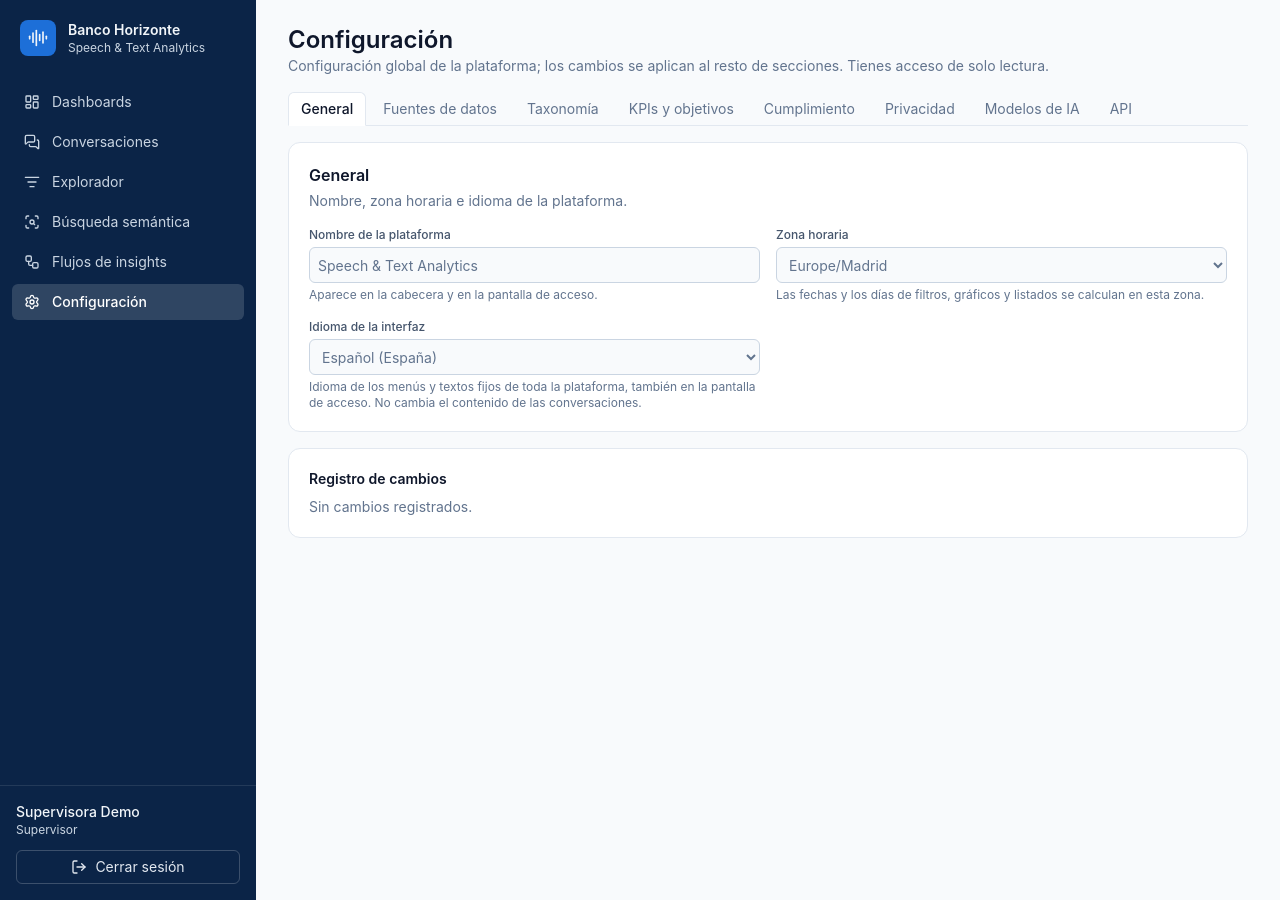
Test: Configuración: auditoría y solo lectura › una supervisora ve la configuración en solo lectura
The image size is (1280, 900).
Expected: the text "solo lectura" is shown, [843,57,1049,74]
Click the tab "General".
click(327, 109)  # box [288,92,366,126]
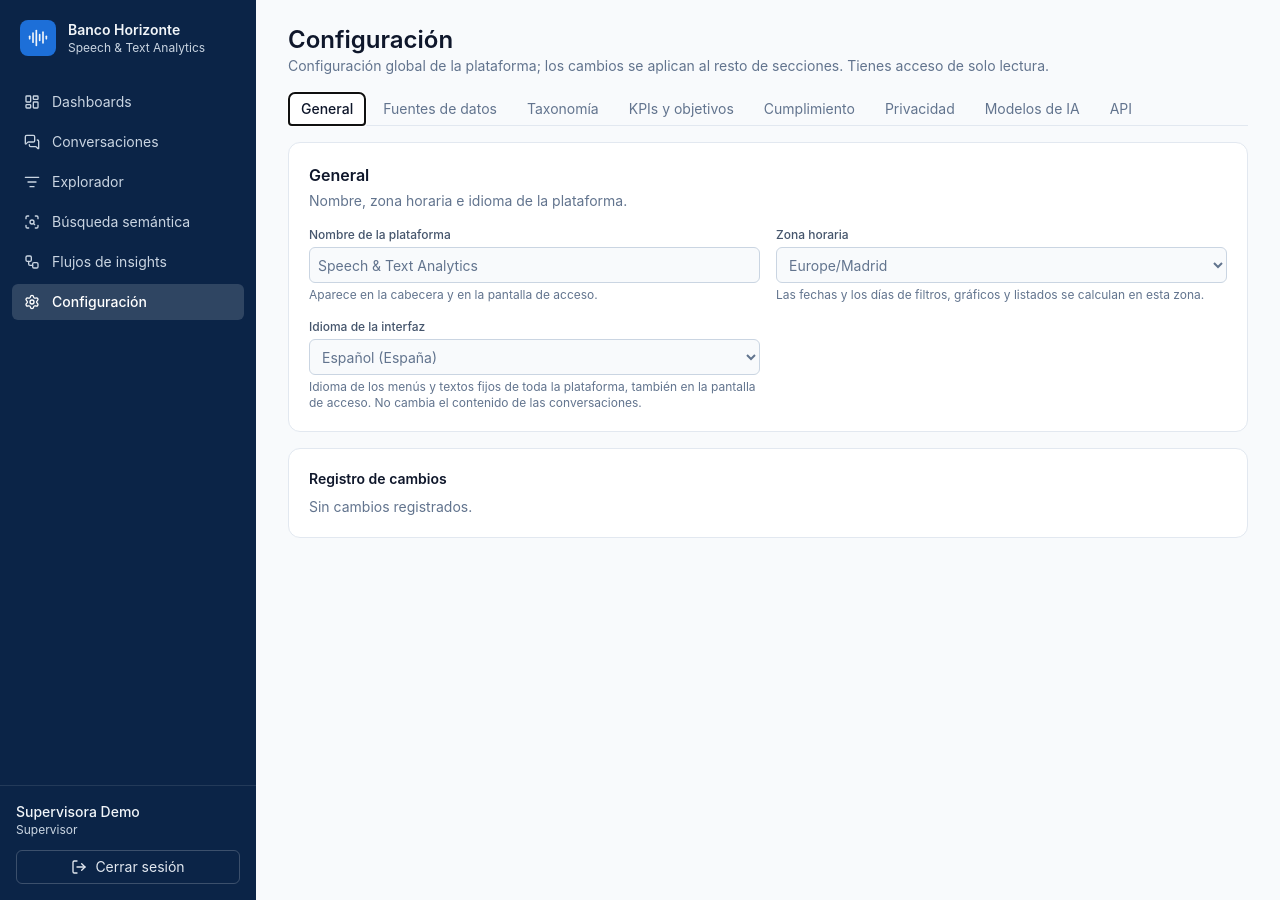
Expected: the field labelled "Nombre de la plataforma" is disabled, [309,247,760,283]
Click the tab "Fuentes de datos".
click(440, 109)  # box [370,92,510,126]
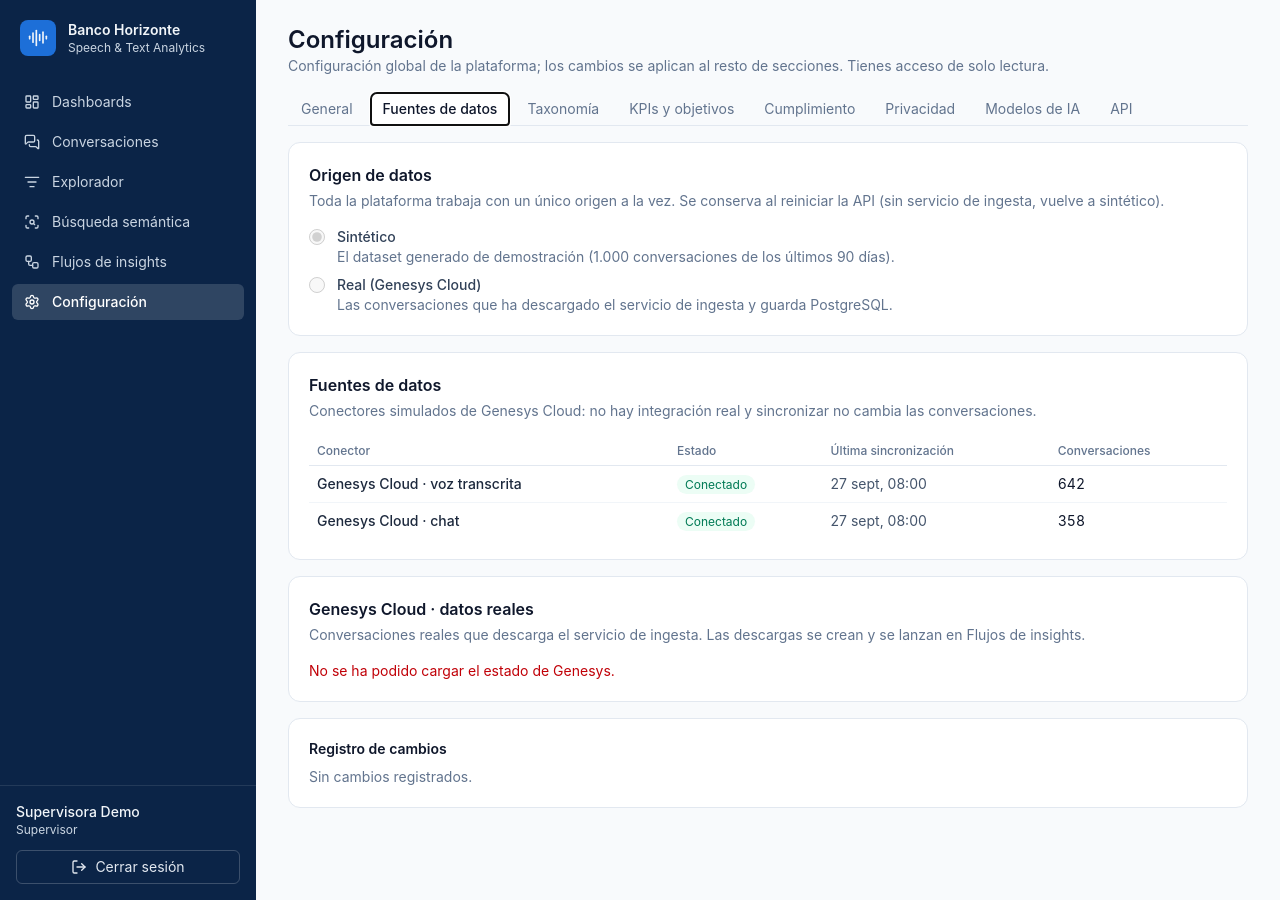
Click the tab "Privacidad".
click(920, 109)  # box [872,92,968,126]
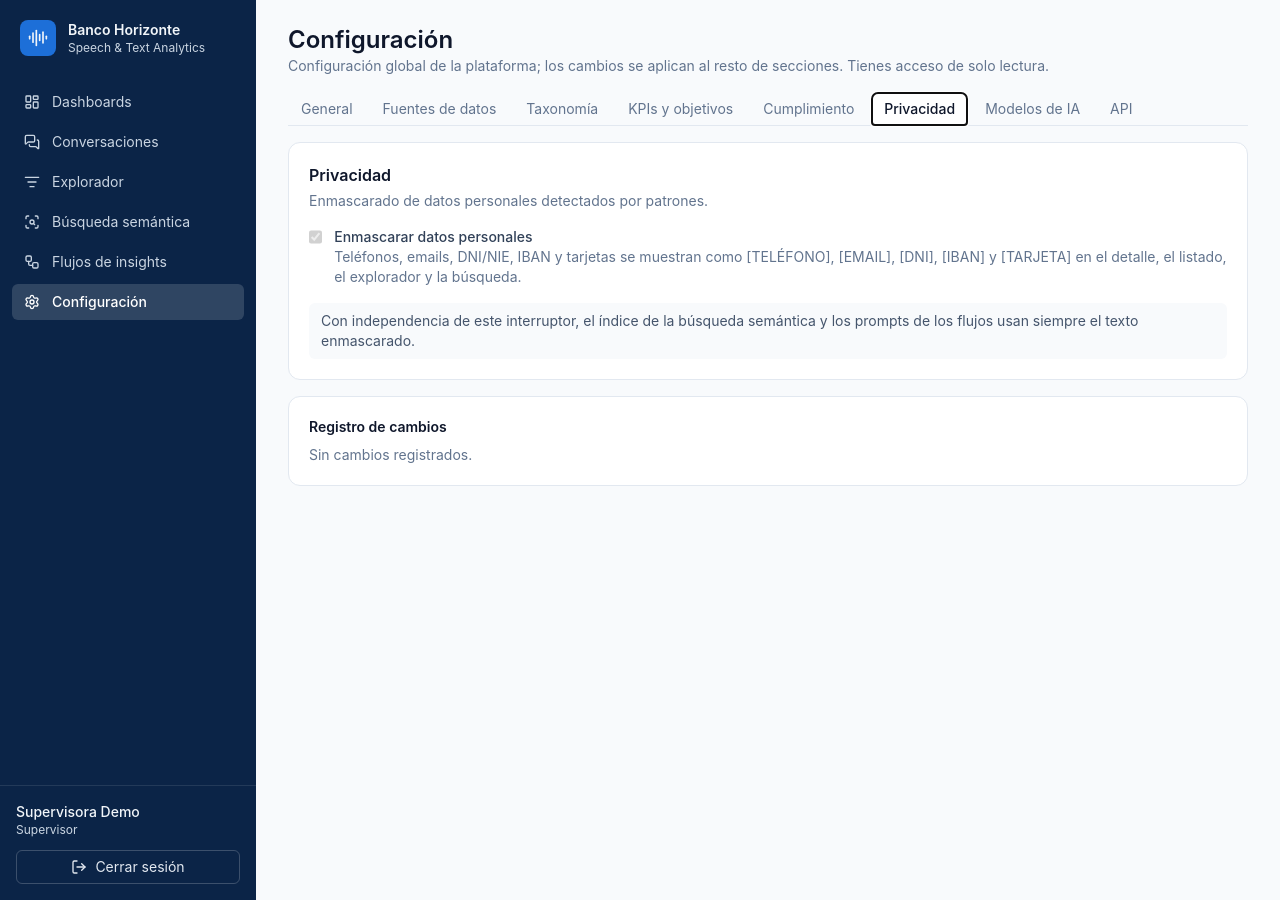
Expected: the checkbox is disabled, [309,229,322,245]
Click the tab "Modelos de IA".
click(1033, 109)  # box [972,92,1093,126]
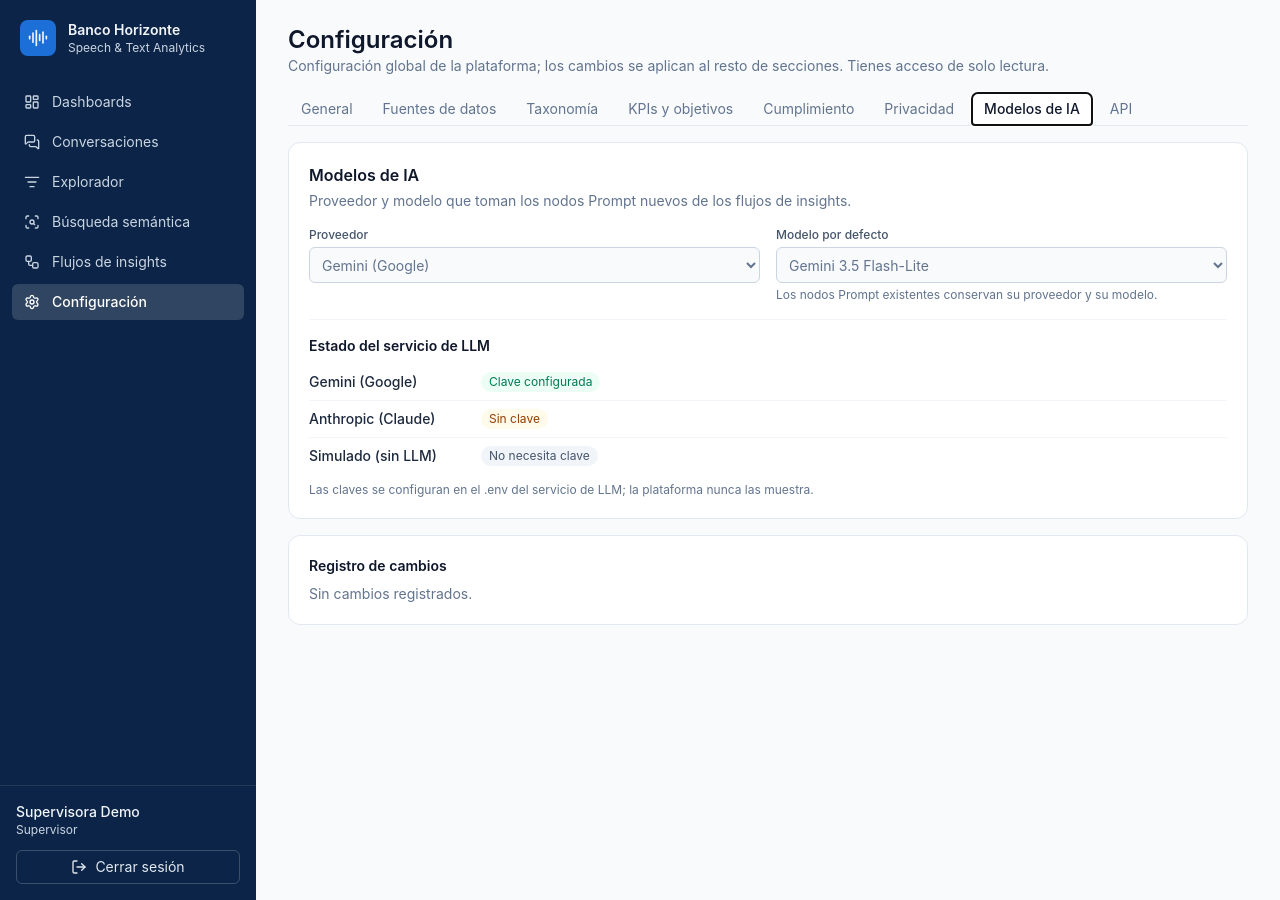
Expected: the element "Estado del servicio de LLM" is shown, [309,319,1227,498]
